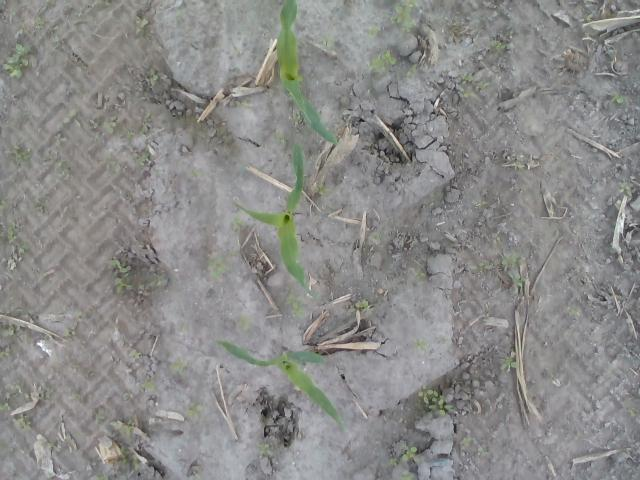Maize: (235, 142, 324, 304), (212, 336, 349, 434), (272, 0, 340, 144)
Weeds: (0, 40, 37, 80), (416, 384, 457, 416), (0, 220, 31, 257), (462, 72, 498, 100), (388, 0, 418, 32), (367, 48, 401, 74), (128, 271, 166, 291), (95, 114, 119, 144), (206, 248, 227, 280), (111, 258, 127, 297), (120, 442, 140, 472), (2, 144, 34, 162), (166, 356, 192, 378), (184, 398, 208, 419), (132, 143, 151, 168), (61, 109, 82, 131), (501, 250, 524, 270), (399, 439, 417, 463), (286, 294, 304, 318), (230, 212, 249, 234), (2, 382, 24, 401), (135, 14, 153, 37), (508, 273, 527, 294), (52, 157, 72, 176), (499, 352, 518, 372), (31, 191, 48, 213), (470, 258, 496, 272), (12, 413, 33, 430), (288, 106, 304, 128), (488, 36, 513, 50), (350, 298, 369, 316), (104, 158, 122, 176), (119, 415, 137, 433), (321, 31, 338, 50), (367, 23, 387, 39), (140, 112, 152, 138), (0, 322, 17, 340), (270, 129, 288, 146), (399, 64, 417, 81), (140, 378, 160, 393), (608, 96, 626, 112), (239, 312, 251, 336), (314, 182, 332, 198), (255, 440, 273, 456), (624, 398, 638, 418), (0, 344, 17, 360), (144, 66, 161, 82), (42, 383, 56, 401), (128, 128, 140, 146), (14, 306, 32, 318), (34, 15, 46, 32), (618, 180, 632, 194), (562, 304, 577, 317), (414, 266, 426, 282), (237, 100, 255, 110), (415, 338, 430, 350), (399, 471, 418, 480), (368, 231, 381, 243), (67, 392, 82, 402), (96, 411, 106, 426), (36, 270, 48, 282), (96, 0, 112, 9), (0, 400, 12, 412), (387, 457, 400, 468), (64, 326, 78, 336), (462, 436, 473, 448), (47, 438, 59, 449), (513, 162, 526, 172), (94, 472, 110, 480), (175, 7, 186, 18), (484, 303, 492, 318), (190, 470, 202, 480), (128, 351, 142, 359), (190, 168, 201, 178), (0, 198, 9, 210), (605, 47, 614, 59), (122, 392, 134, 401), (399, 415, 409, 424), (584, 13, 594, 22), (74, 8, 82, 18), (472, 199, 480, 209), (47, 0, 56, 8), (477, 448, 489, 454), (64, 0, 72, 6)
